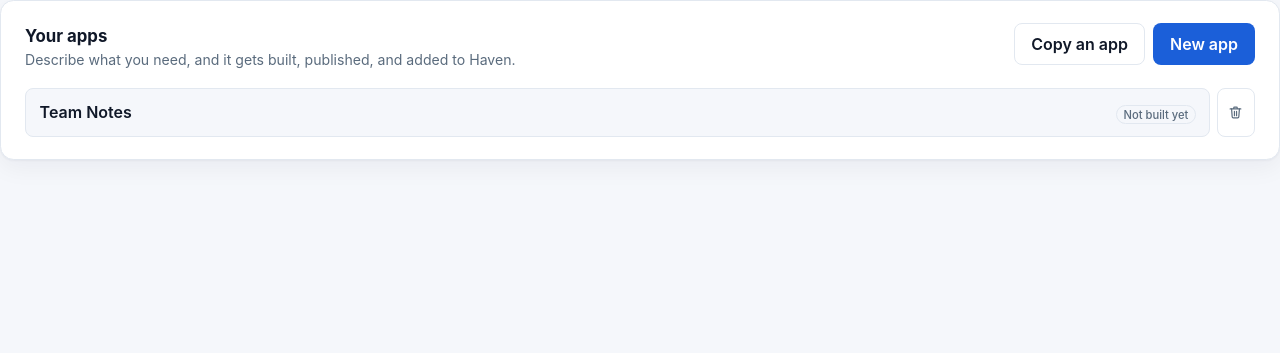
Test case: AppList › removing an app from the list › asks first, and removes nothing on the way
Click the button with class "apps__remove" at x=1236, y=113, box [1217,88,1255,137]
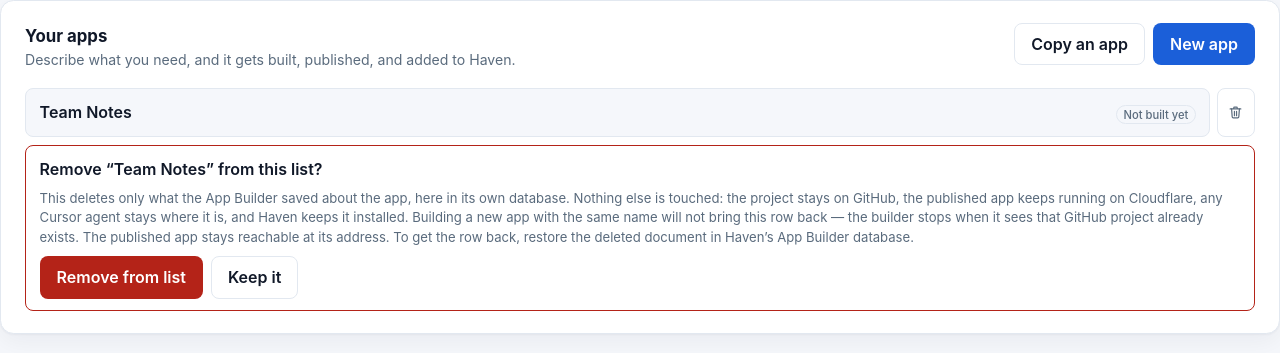
Result: the element with class "apps__confirm" is shown at [25,145,1255,311]
Result: the text "Remove “Team Notes” from this list?" is shown at [40,159,322,179]
